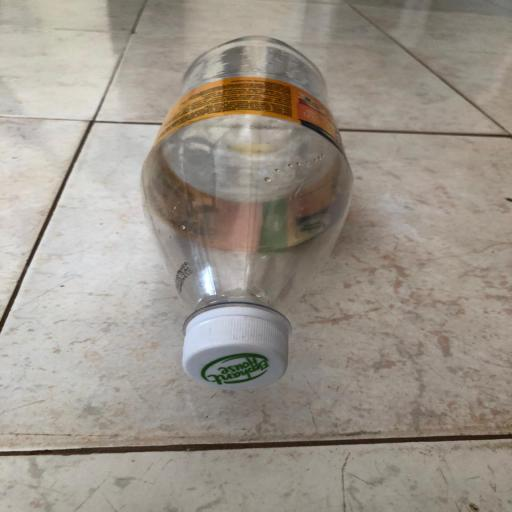waste: (120, 23, 364, 400)
